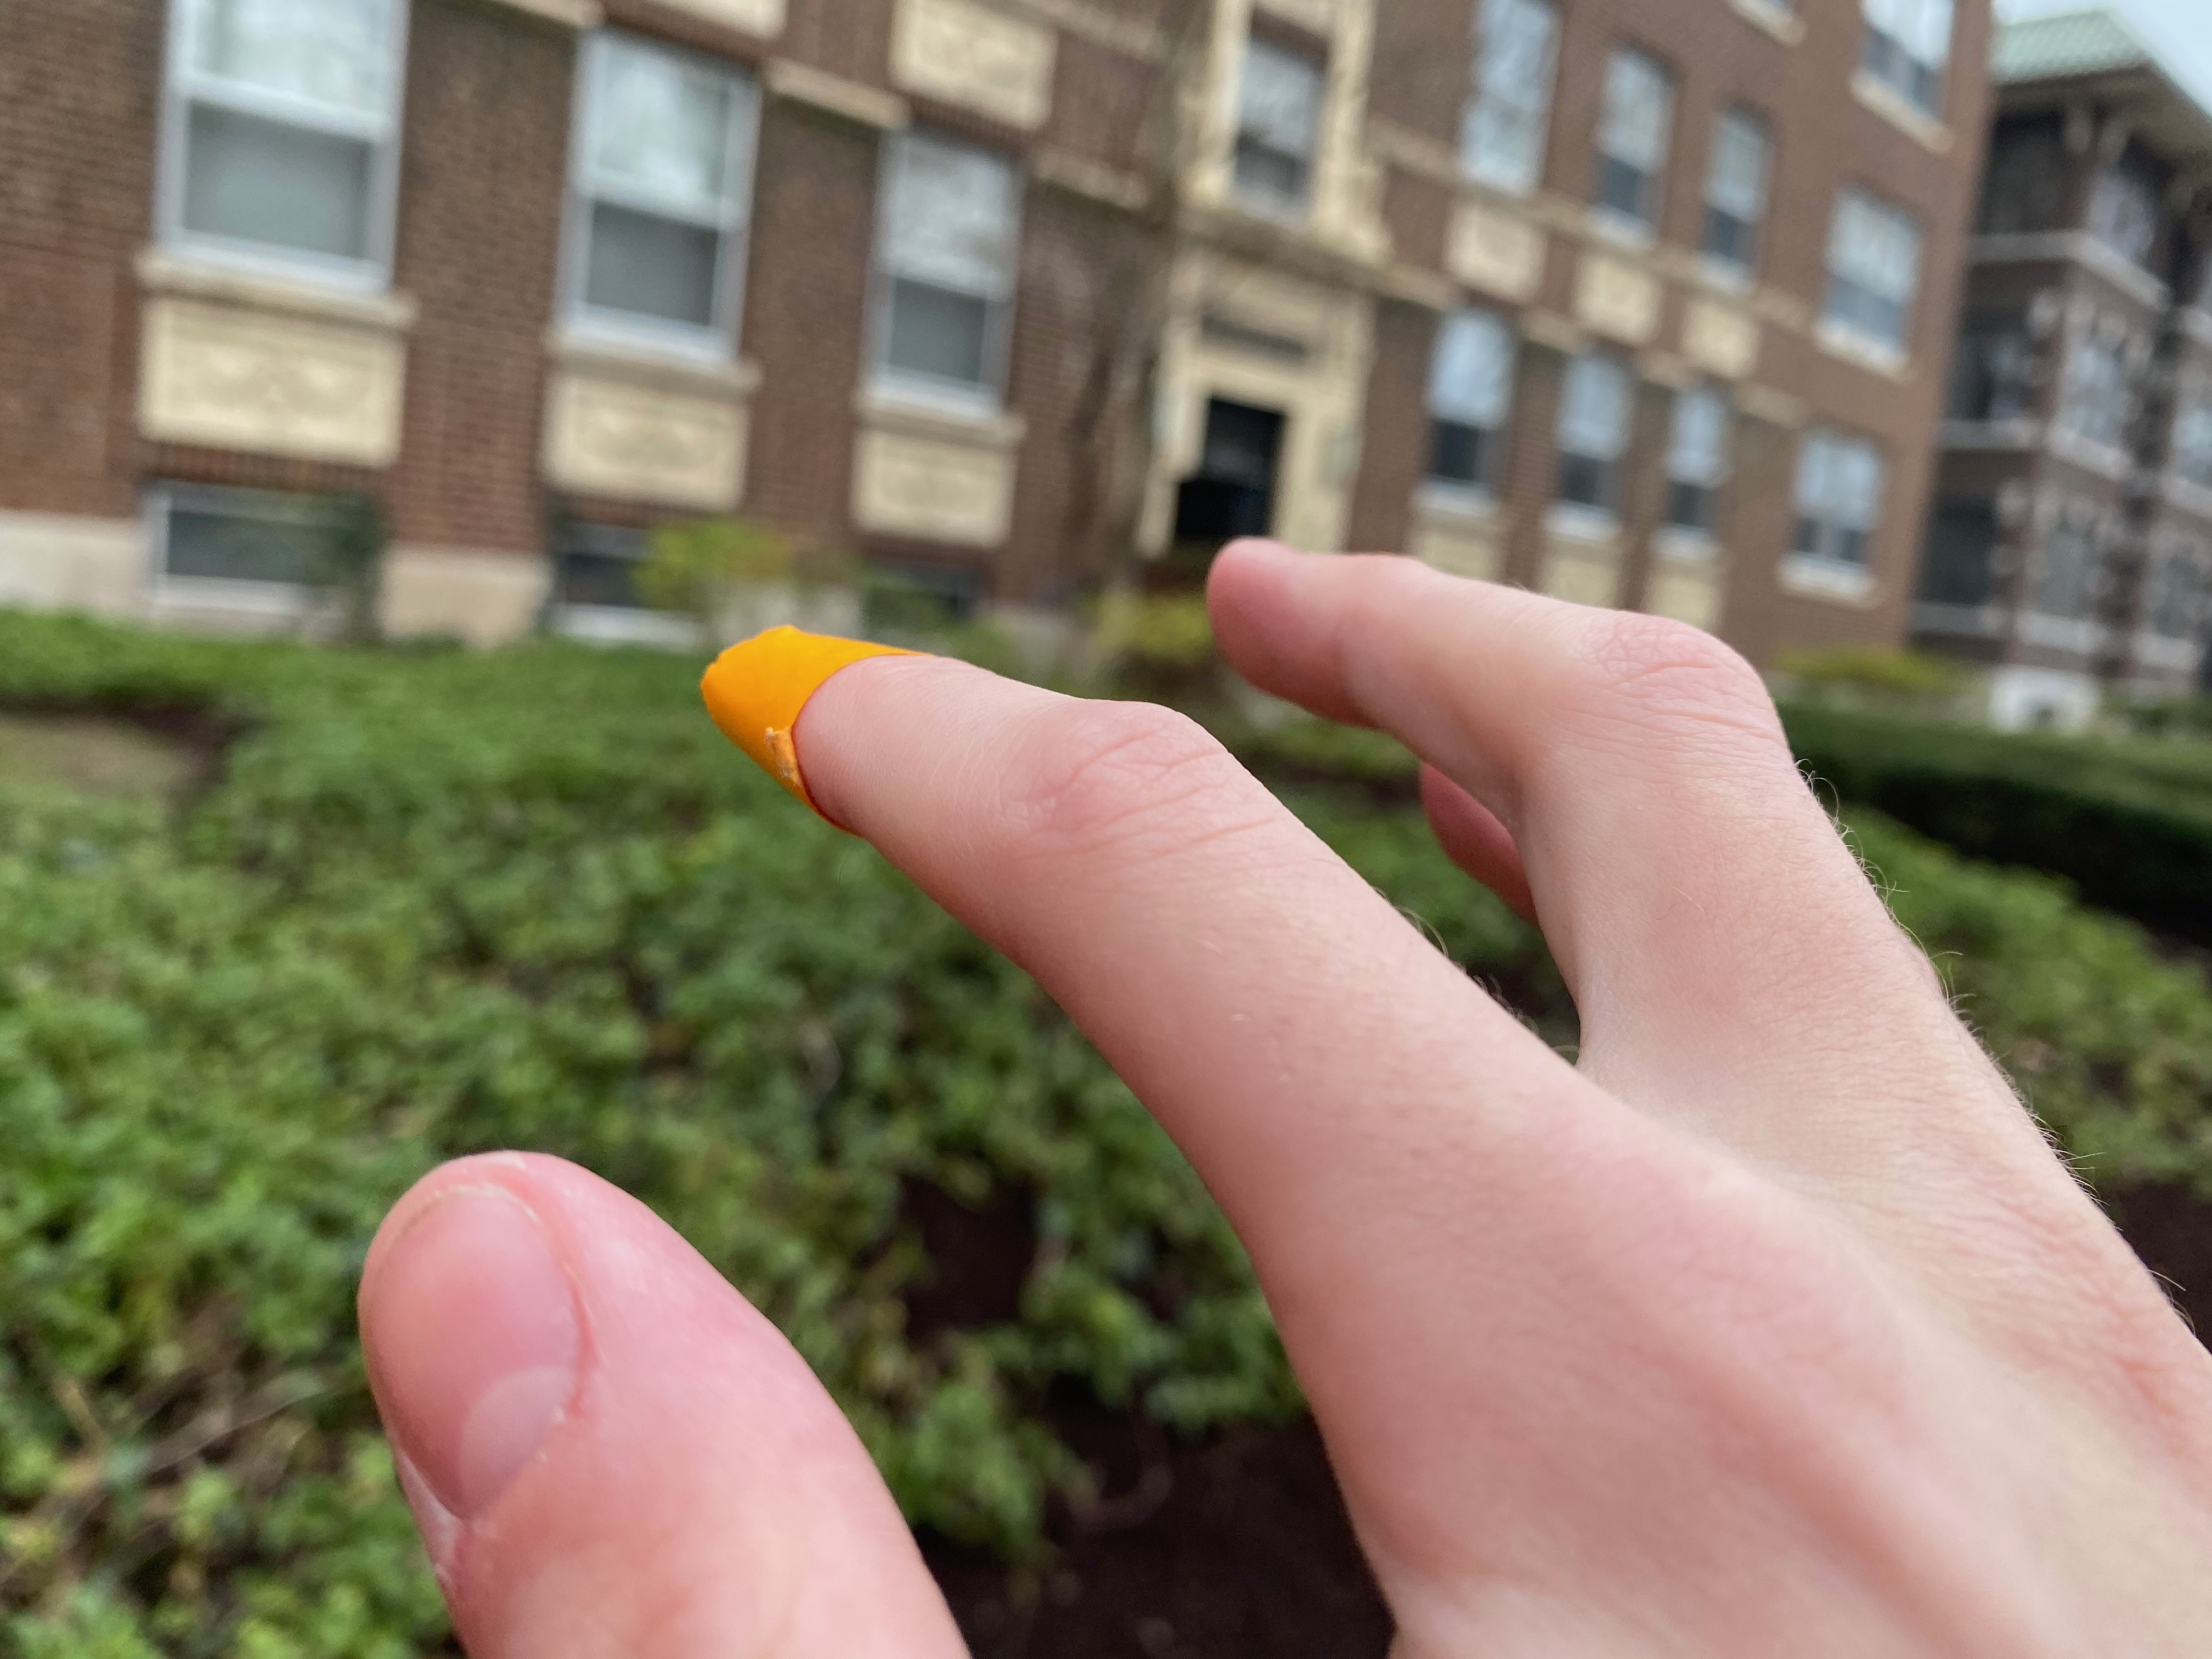fingertip: (662, 612, 871, 781)
